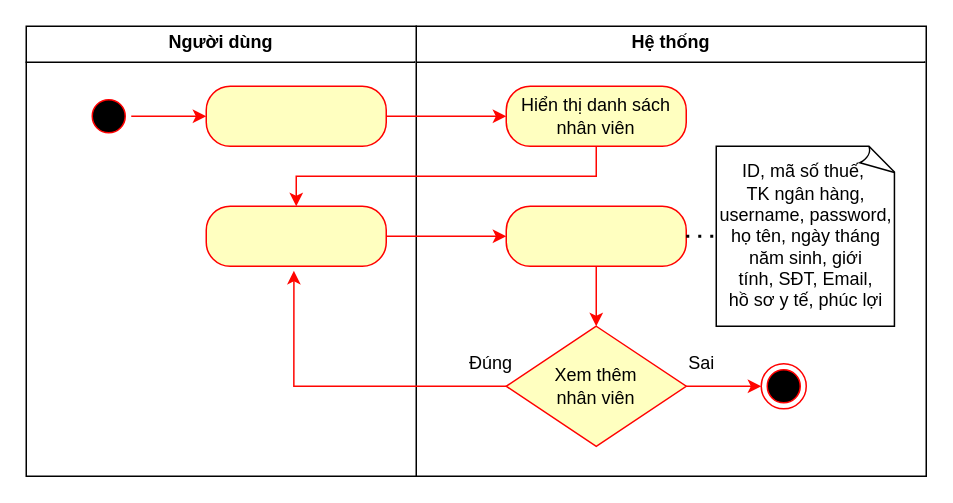
The diagram is 953 pixels wide and 503 high, and some of its shapes have lost their labels. Here are the shapes that lost their labels. From the top down, the box of each, then its label:
(205, 85, 386, 146): Xem thông tin nhân viên
(205, 205, 386, 266): Chọn nhân viên
(505, 205, 686, 266): Hiển thị thông tin nhân viên
